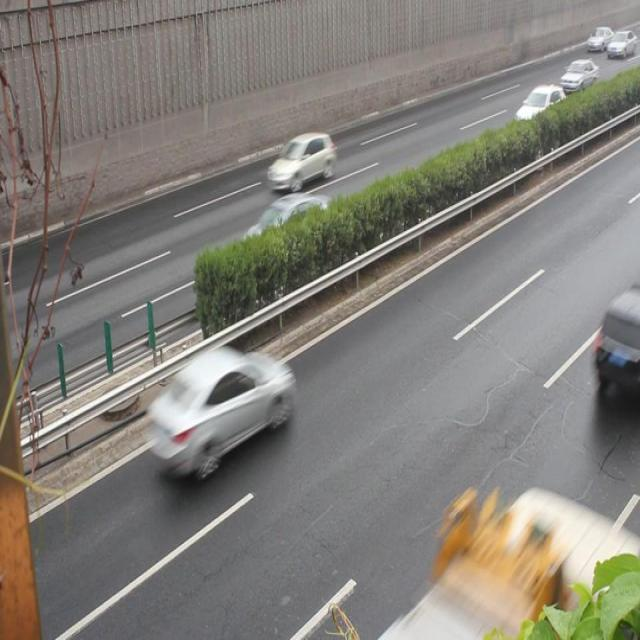bus: (390, 493, 619, 640)
car: (144, 347, 292, 478), (238, 194, 332, 274), (268, 133, 334, 194), (511, 86, 566, 138)
